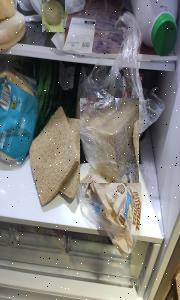Brocoli: (42, 0, 65, 32)
Judia verde: (30, 62, 58, 117)
Pan de sandwich: (80, 98, 139, 183)
